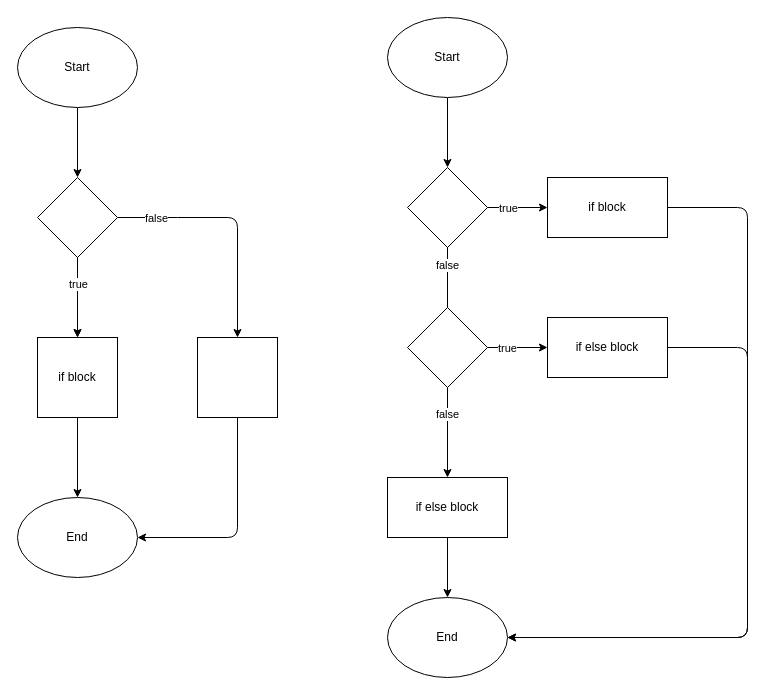
This 773x695 diagram has some shape labels left out. Here are the shapes that lost their labels. From the top down, the box of each, then its label:
(36, 176, 118, 258): condition
(406, 166, 488, 248): condition 1
(406, 306, 488, 388): condition 2
(196, 336, 278, 418): else block
